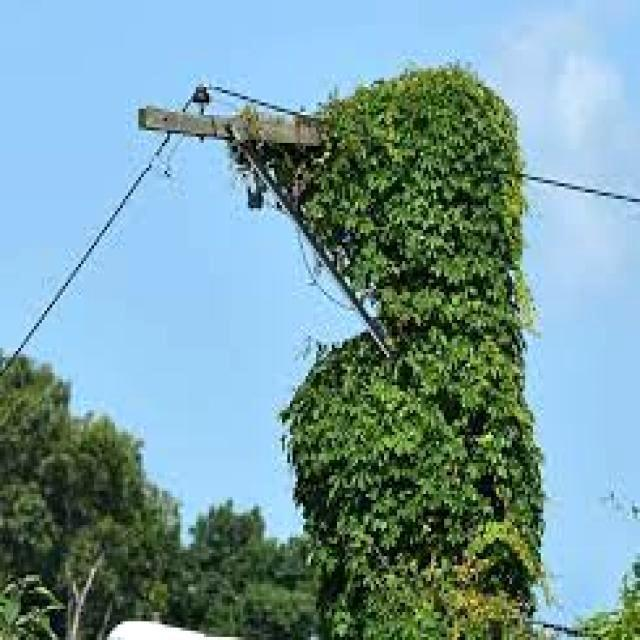critical vegetation: (119, 76, 579, 405)
